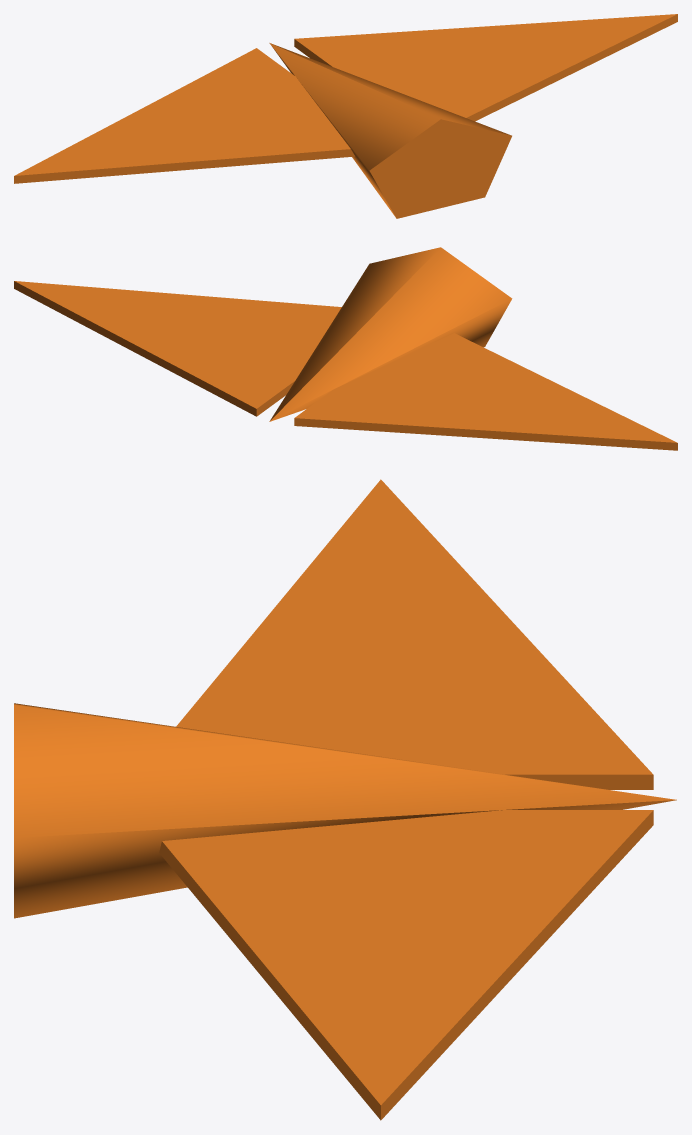
File: bird.glb
3 renders of one model, top to bottom at view 1: azimuth 30°, elevation 25°; view 2: azimuth 150°, elevation 25°; view 3: azimuth 270°, elevation 25°, orthographic. The views are drawn at different scales.
Visible parts, largest first — view 1: n6, n4, n2; view 2: n6, n4, n2; view 3: n4, n6, n2.
Boxes of the visible parts, x1=… form: n6: x1=14, y1=48, x2=354, y2=183; n4: x1=294, y1=14, x2=677, y2=121; n2: x1=269, y1=43, x2=511, y2=218; n6: x1=294, y1=333, x2=677, y2=450; n4: x1=14, y1=281, x2=341, y2=416; n2: x1=269, y1=247, x2=512, y2=421; n4: x1=159, y1=810, x2=653, y2=1120; n6: x1=176, y1=479, x2=653, y2=789; n2: x1=14, y1=703, x2=676, y2=918.
Bounding box in the file's own units: 2.12 × 0.2714 × 0.95.
